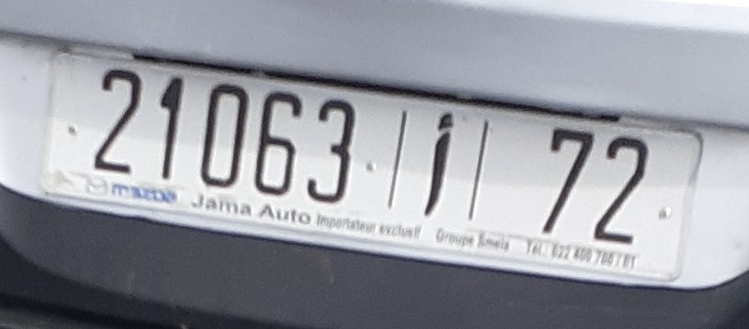0: (196, 77, 254, 194)
1: (149, 69, 190, 185)
2: (593, 134, 653, 253), (89, 64, 144, 181)
3: (304, 90, 362, 210)
6: (251, 86, 305, 199)
7: (537, 121, 595, 243)
a: (419, 104, 458, 224)
